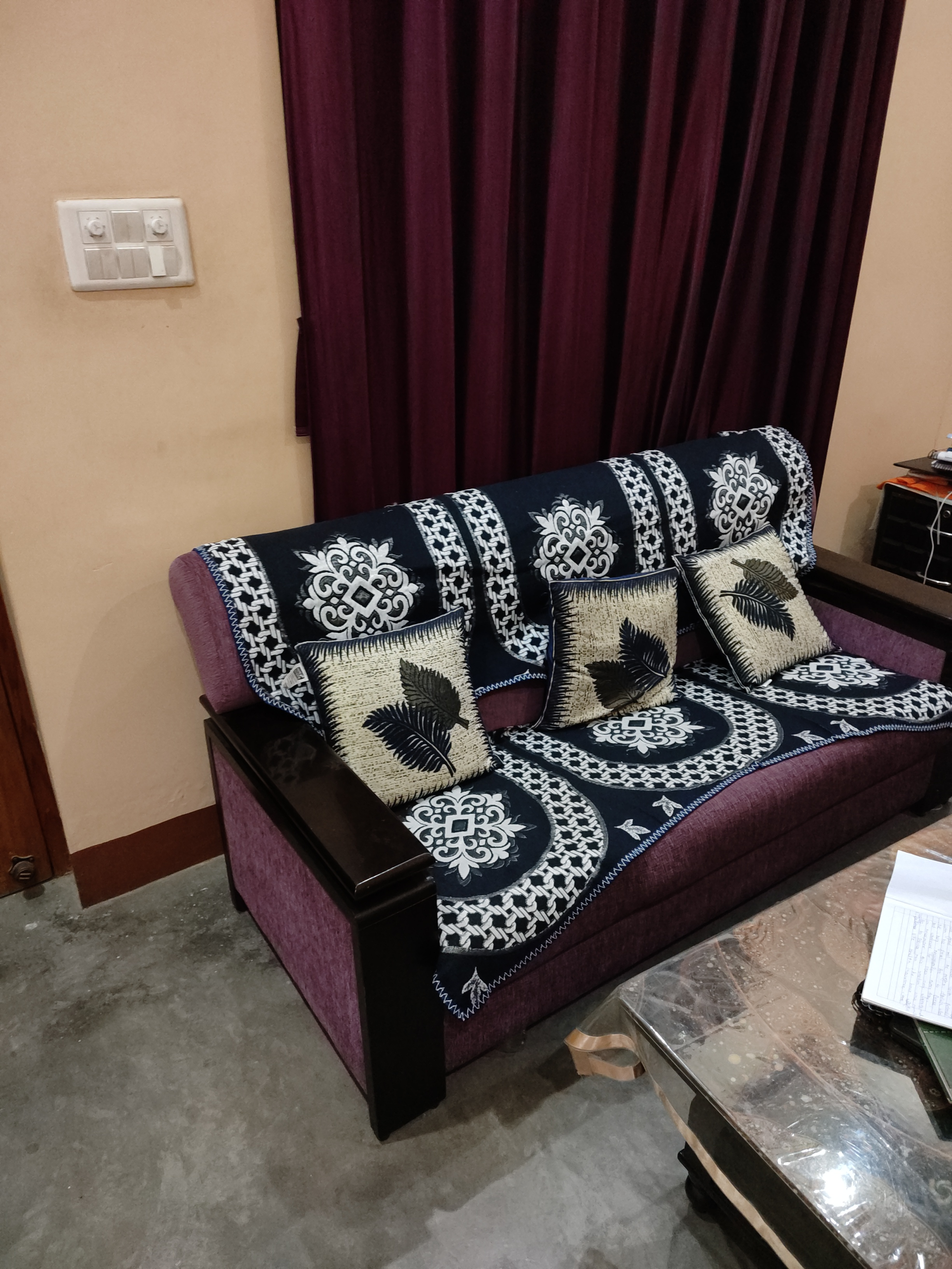sofa: (170, 428, 952, 1140)
table: (564, 786, 952, 1266)
